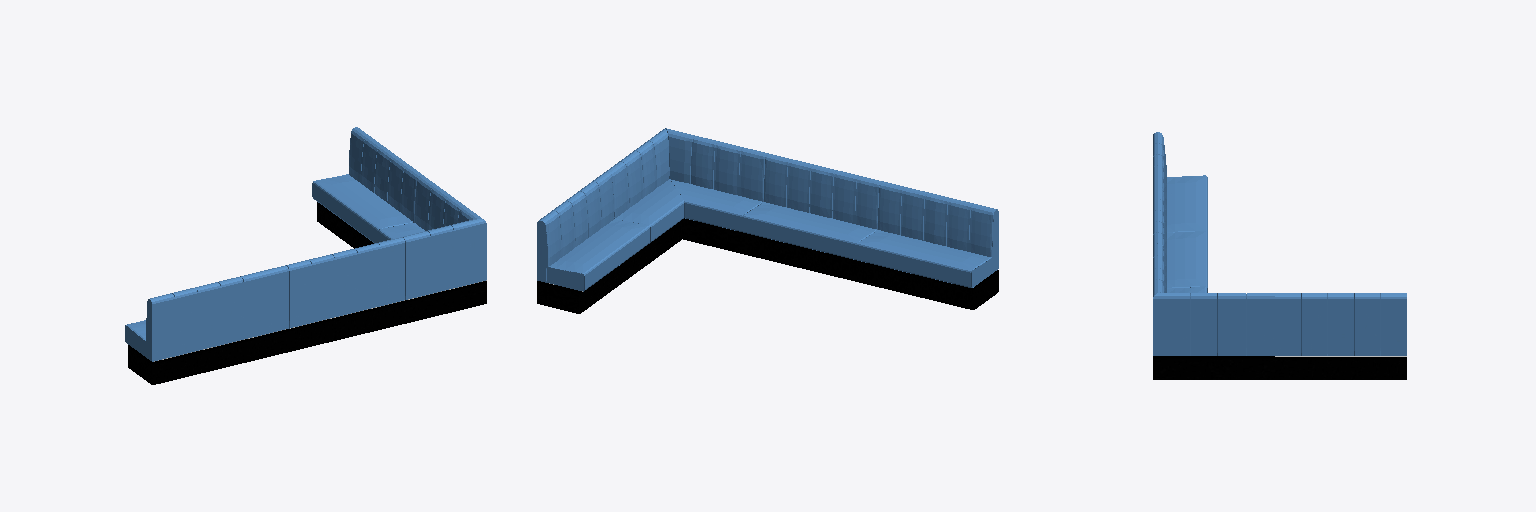
3 views of the same model, side by side, from view 1: azimuth 30°, elevation 25°; view 2: azimuth 150°, elevation 25°; view 3: azimuth 270°, elevation 25° (orthographic).
Parts seen in each view (by area): view 1: sofa_Plane_013, sofa_pasted__Plane_012group2, sofa_Plane_012, sofa_pasted__Plane_012group; view 2: sofa_Plane_013, sofa_pasted__Plane_012group2, sofa_Plane_012, sofa_pasted__Plane_012group; view 3: sofa_pasted__Plane_012group, sofa_Plane_013, sofa_Plane_012, sofa_pasted__Plane_012group2.
Part boxes in pixels (x1,y1,x2,y2): sofa_Plane_013: (378,176,486,329); sofa_pasted__Plane_012group2: (125,271,266,384); sofa_Plane_012: (264,243,380,357); sofa_pasted__Plane_012group: (312,127,423,248); sofa_Plane_013: (606,128,768,265); sofa_pasted__Plane_012group2: (857,181,998,309); sofa_Plane_012: (743,154,882,282); sofa_pasted__Plane_012group: (537,172,649,313); sofa_pasted__Plane_012group: (1275,293,1406,379); sofa_Plane_013: (1153,244,1274,379); sofa_Plane_012: (1153,188,1207,292); sofa_pasted__Plane_012group2: (1153,132,1207,232).
Size of the model in its own units: 6.28 by 1.52 by 4.14.
6 materials, 2 textured.